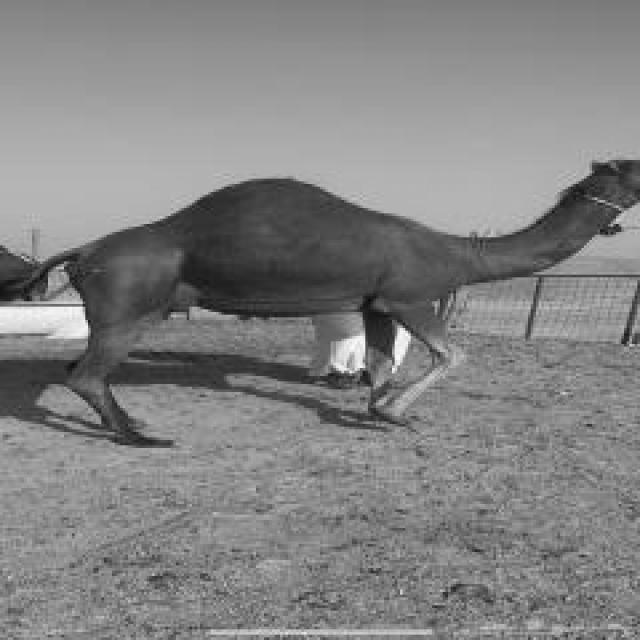Camel: (3, 155, 637, 448)
